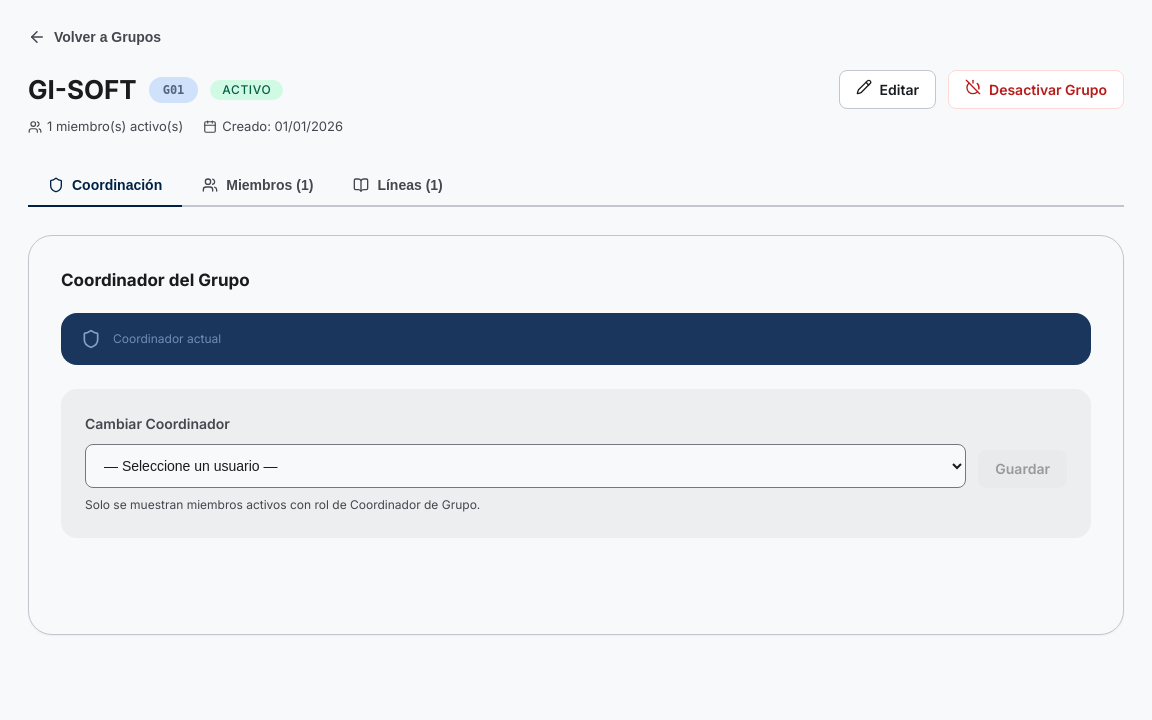
ResearchGroupDetail page › renders members list in the members tab
Expected: the heading "GI-SOFT" is shown, x1=28 y1=70 x2=137 y2=109
Click the button "Miembros (1)" at [258, 186], box x1=182 y1=164 x2=333 y2=206
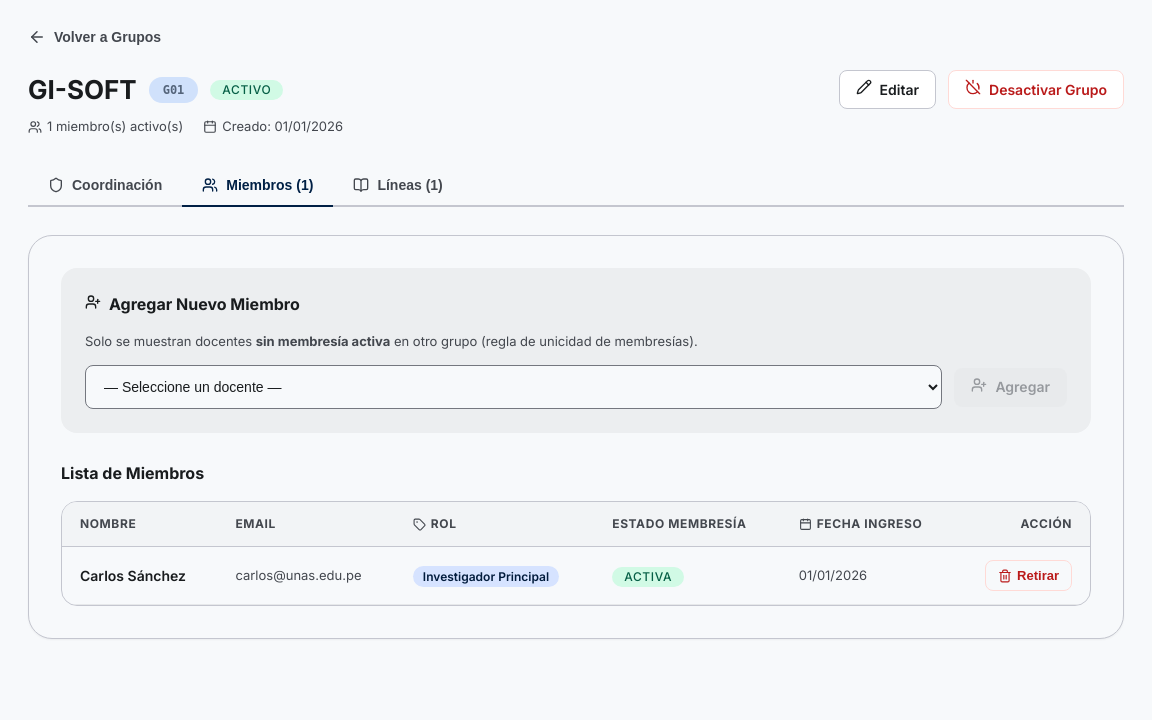
Now the text "Carlos Sánchez" is shown, box x1=62 y1=546 x2=217 y2=604
Now the text "carlos@unas.edu.pe" is shown, box x1=217 y1=546 x2=395 y2=604
